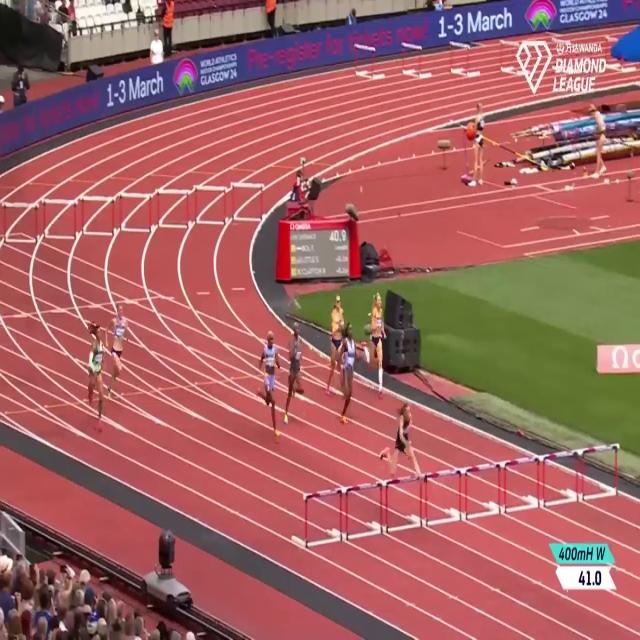athlete: (383, 389, 424, 476), (80, 316, 107, 440), (365, 287, 392, 406), (280, 316, 307, 430), (262, 326, 286, 446), (325, 290, 349, 401), (337, 313, 360, 428), (107, 301, 132, 405)
hurdle: (580, 442, 622, 508), (422, 458, 463, 524), (342, 477, 384, 539), (302, 484, 342, 549), (501, 454, 544, 514), (462, 460, 502, 519), (384, 472, 422, 534), (542, 448, 580, 508), (1, 194, 40, 249), (42, 191, 79, 243), (155, 184, 191, 236), (120, 186, 156, 237), (78, 190, 115, 238), (193, 184, 226, 230), (230, 185, 266, 225), (398, 35, 426, 85), (349, 39, 379, 81), (498, 33, 520, 78), (446, 39, 468, 80)
